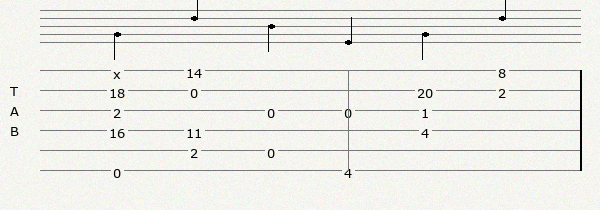0: (113, 164, 125, 177), (190, 84, 202, 97), (267, 104, 279, 117), (267, 144, 279, 157), (344, 104, 356, 117)
1: (421, 104, 433, 117)
11: (186, 124, 206, 137)
14: (186, 64, 206, 77)
16: (109, 124, 129, 137)
18: (109, 84, 129, 97)
2: (113, 104, 125, 117), (190, 144, 202, 157), (498, 84, 510, 97)
20: (417, 84, 437, 97)
4: (344, 164, 356, 177), (421, 124, 433, 137)
8: (498, 64, 510, 77)
x: (113, 65, 125, 76)
